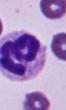N: (0, 31, 47, 81)
